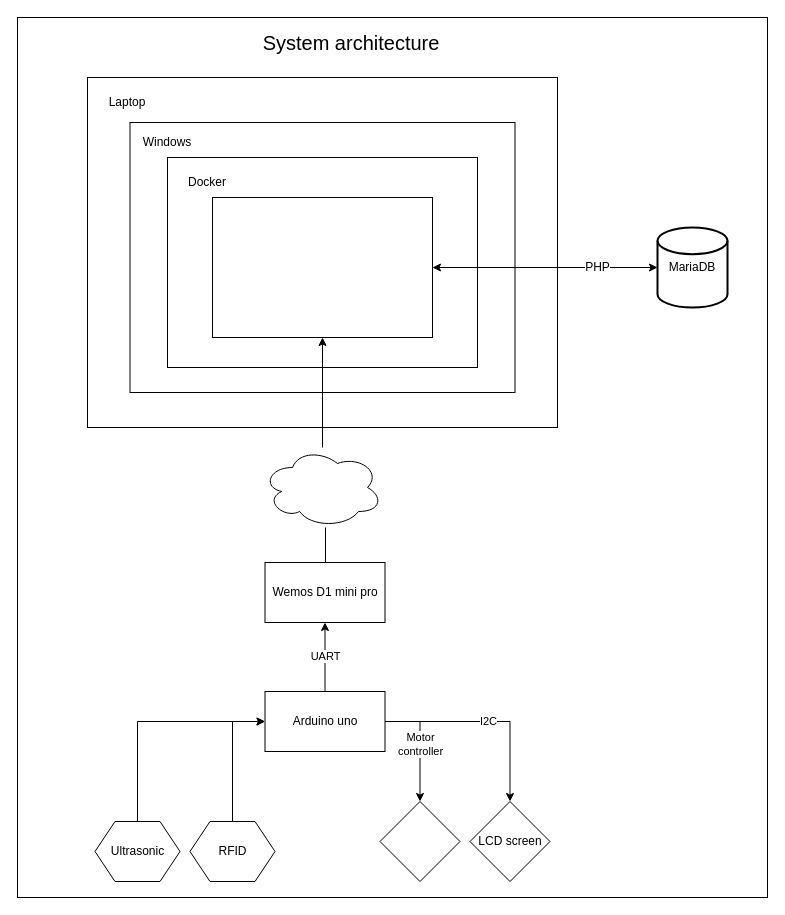
Image size: 785x915. Some labels were removed from this diagram. Here are the shapes that lost their labels. From the top down, the centre of each, then its label:
At [322,267]: "Webserver".
At [322,487]: "HTTP - GET".
At [419,841]: "Step motor".
